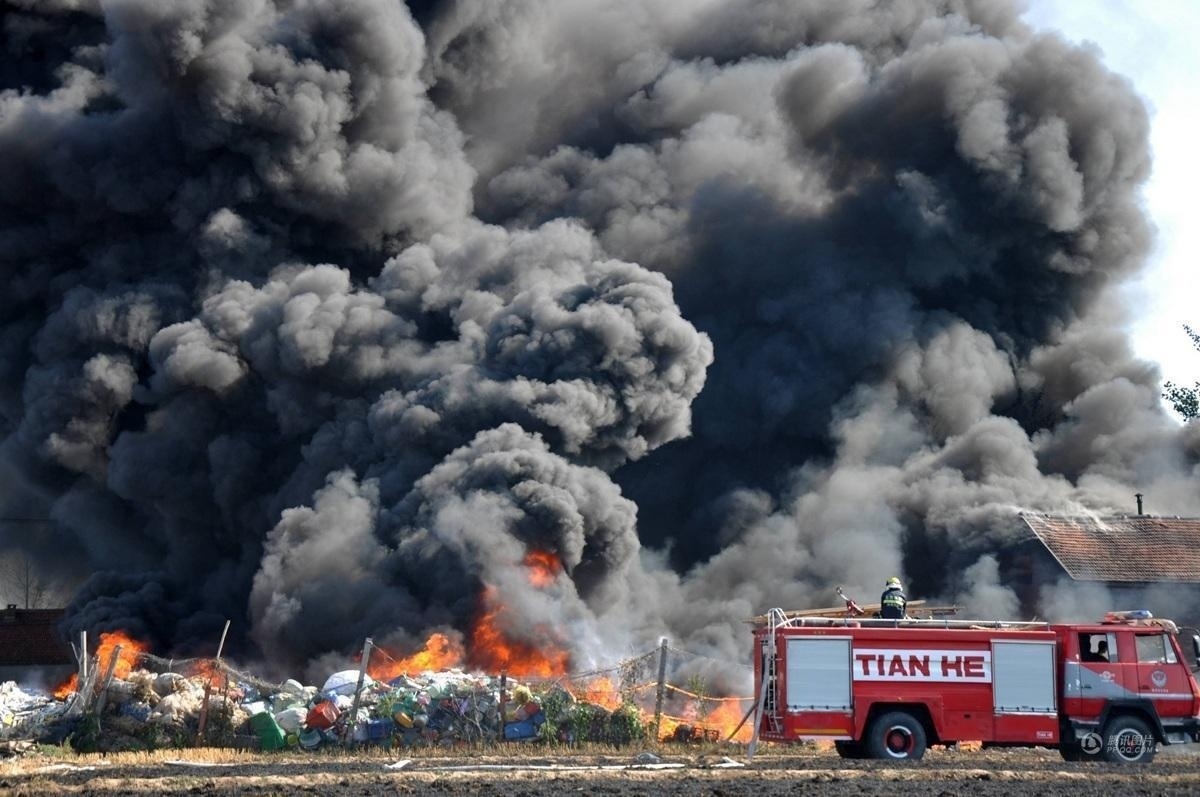fire: (368, 609, 614, 689), (365, 635, 449, 680), (93, 628, 144, 679), (525, 546, 561, 585), (53, 672, 80, 697)
